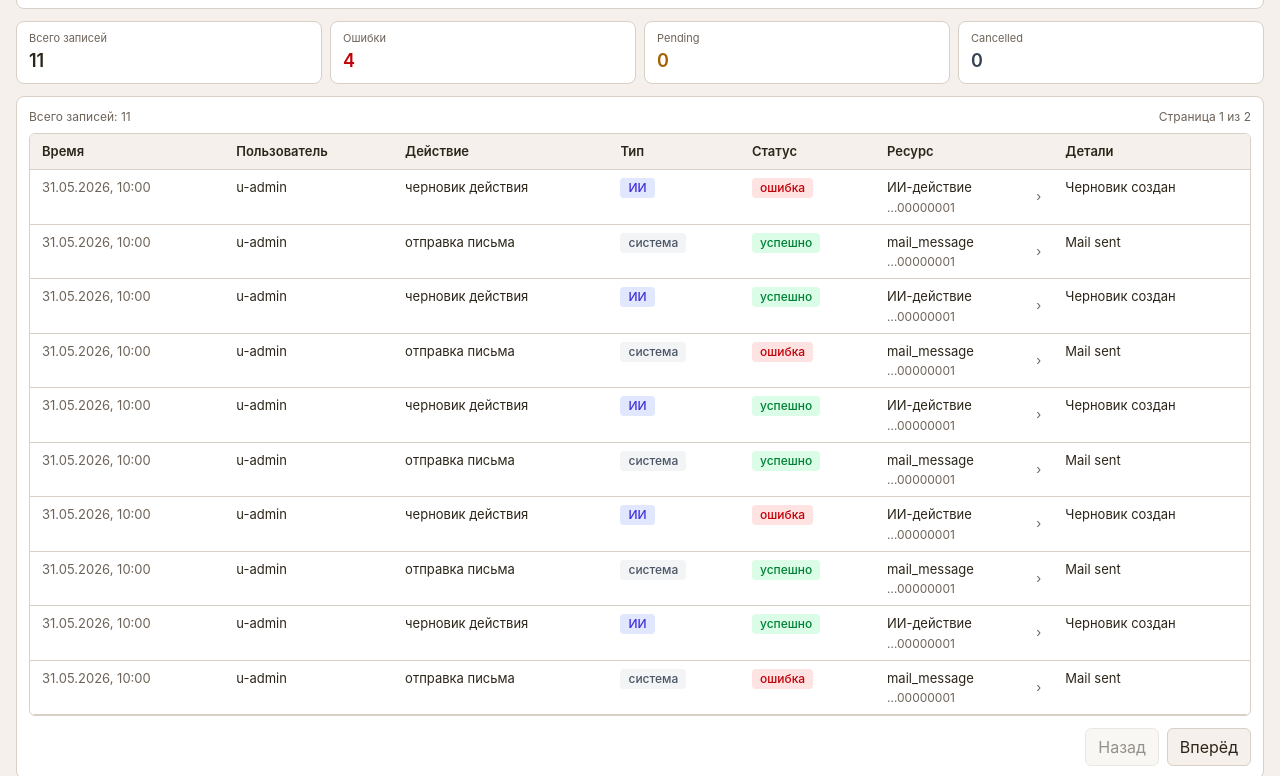
Test: AuditPage — summary and reset filters › resets all filters and page by reset button
(page scrolled)
Expected: the text "Страница 1 из 2" is shown, [1159,109,1251,125]
Click the button "Вперёд" at [1209, 747], box [1167,728,1251,766]
(page scrolled)
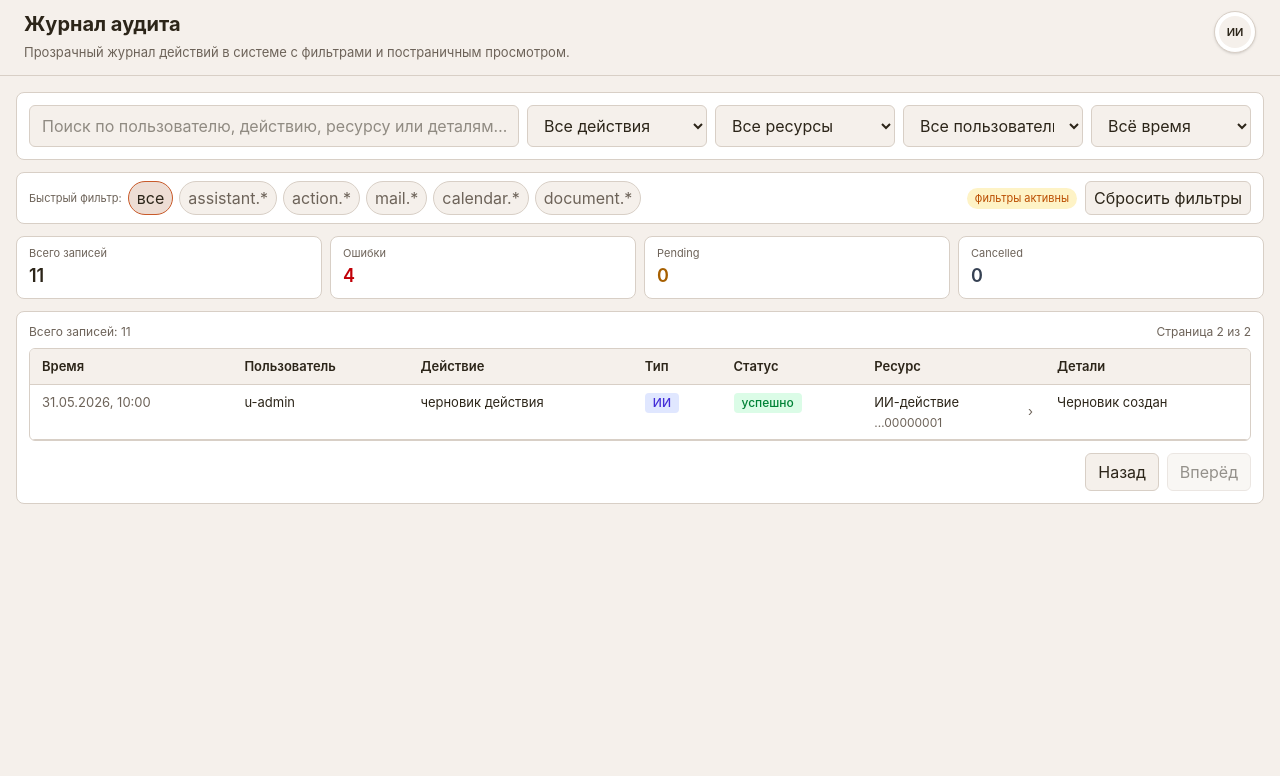
Expected: the text "Страница 2 из 2" is shown, [1156,324,1251,340]
Type "mail" into the field named "Поиск по журналу аудита" at [274, 126], box [29,105,519,147]
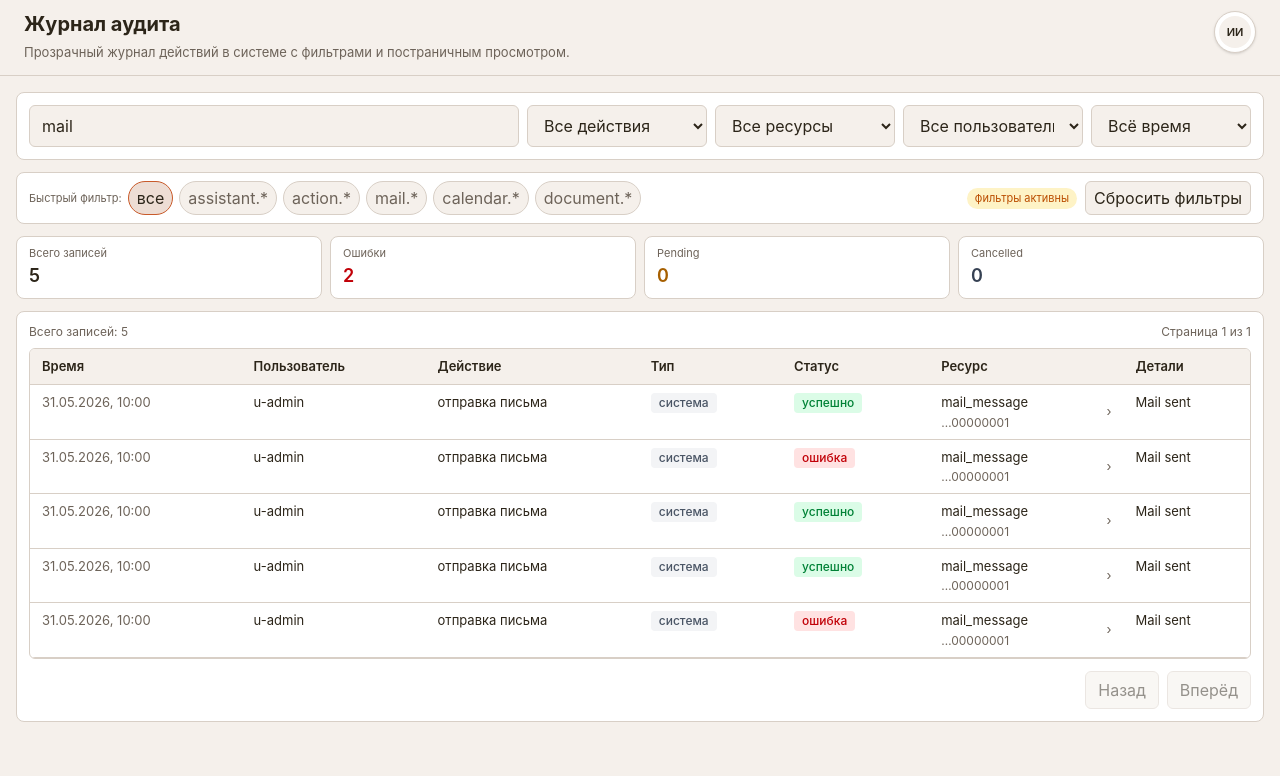
Select "отправка письма" in the dropdown named "Фильтр по действию" at [617, 126], box [527,105,707,147]
Select "mail_message" in the dropdown named "Фильтр по типу ресурса" at [805, 126], box [715,105,895,147]
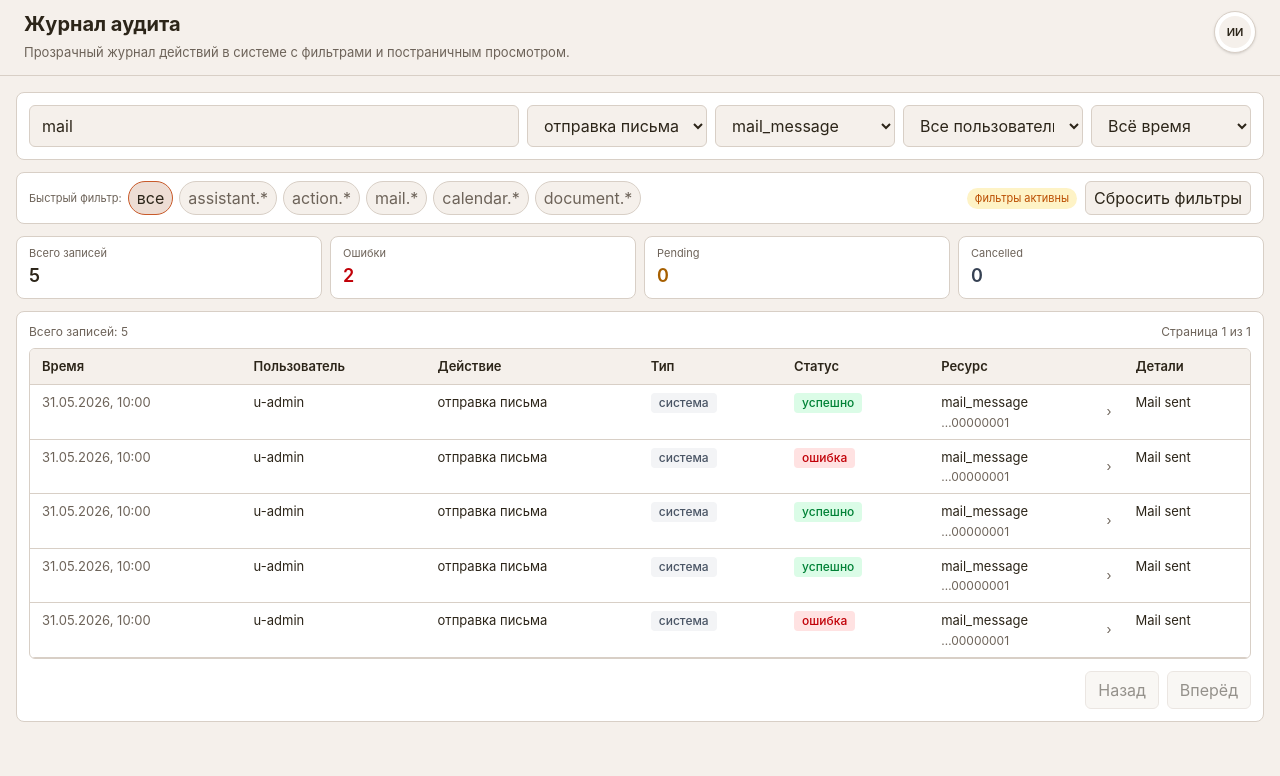
Select "Сегодня" in the dropdown named "Фильтр по дате" at [1171, 126], box [1091,105,1251,147]
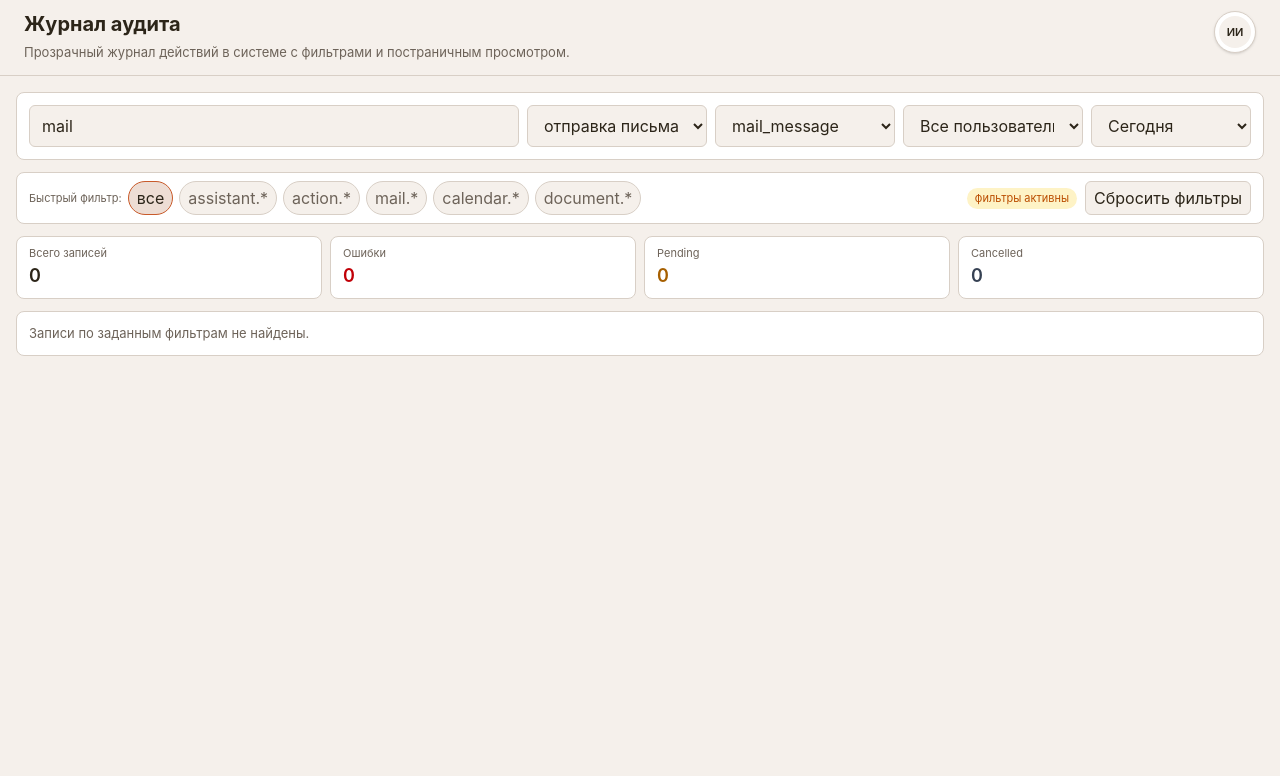
Click the button "mail.*" at [397, 198], box [366,181,427,215]
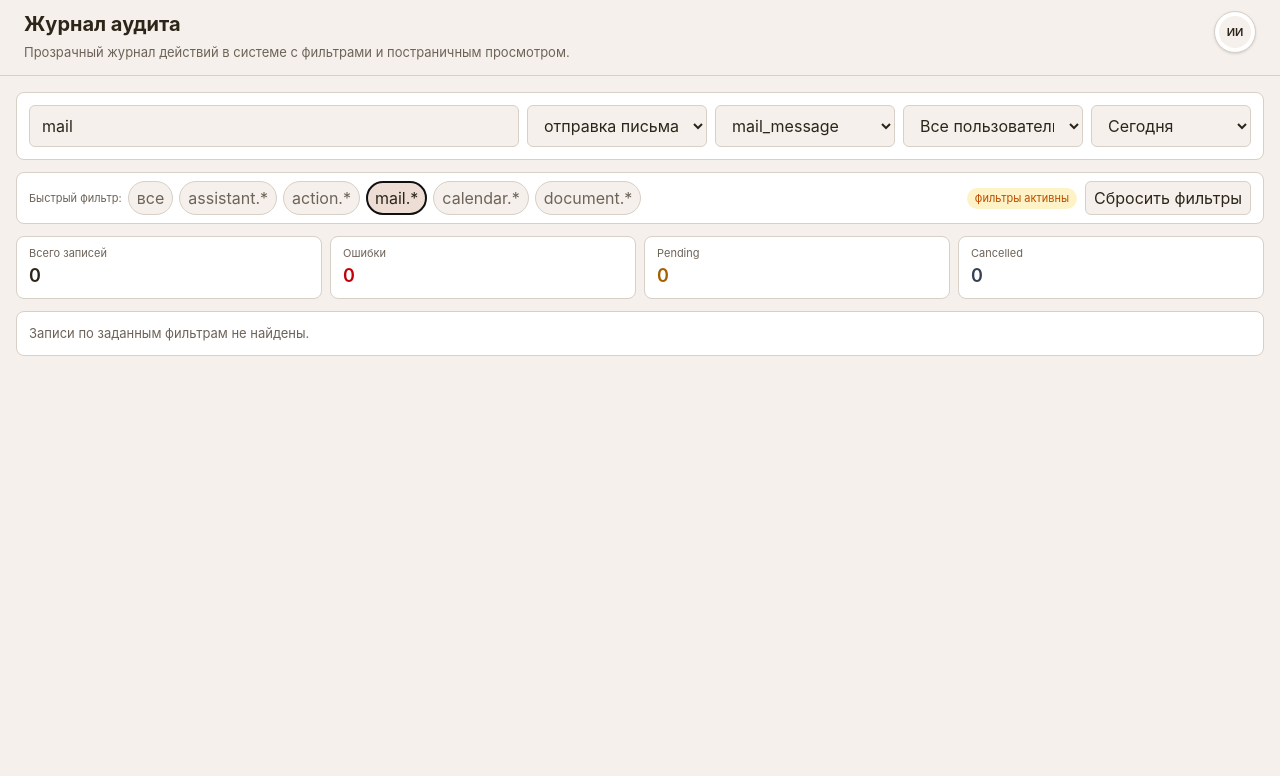
Expected: the text "фильтры активны" is shown, [967,188,1077,209]
Click the button "Сбросить фильтры" at [1168, 198], box [1085,181,1251,215]
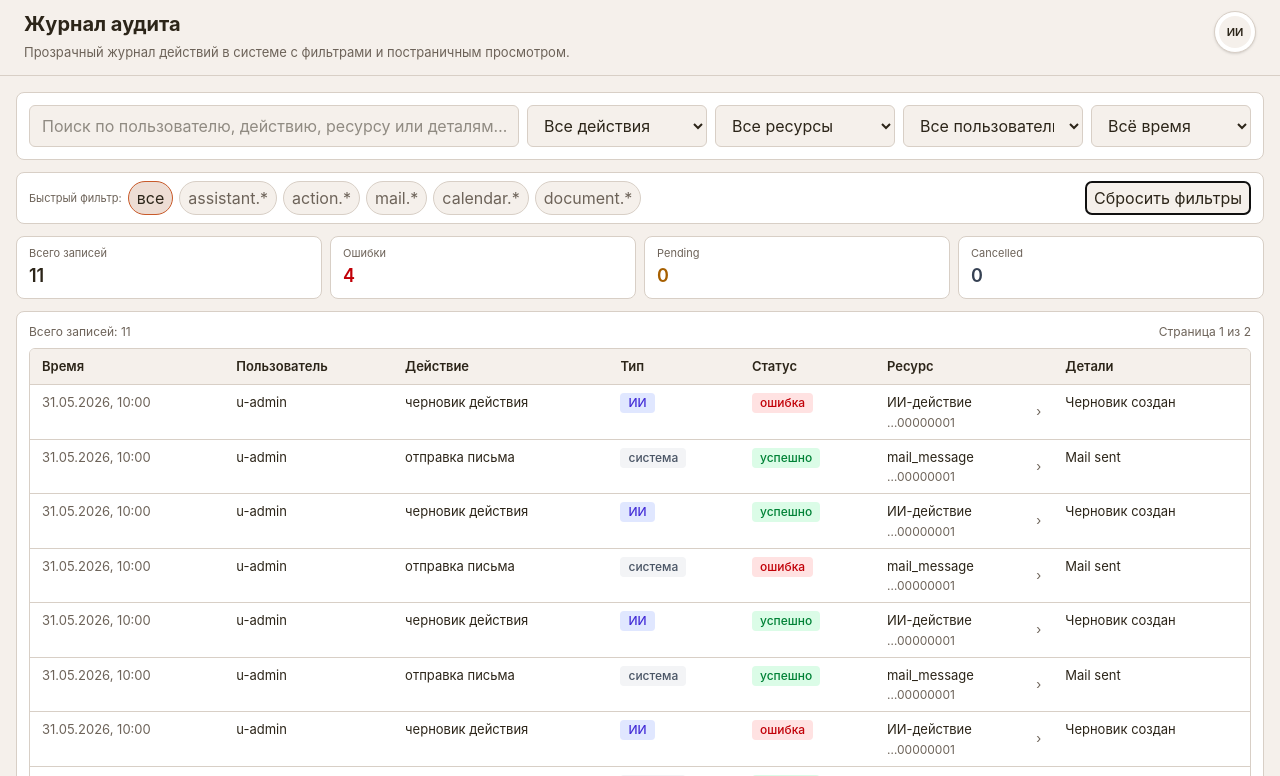
Expected: the field named "Поиск по журналу аудита" is empty, [29,105,519,147]
Expected: the text "Страница 1 из 2" is shown, [1159,324,1251,340]
Expected: the text "фильтры активны" is gone
